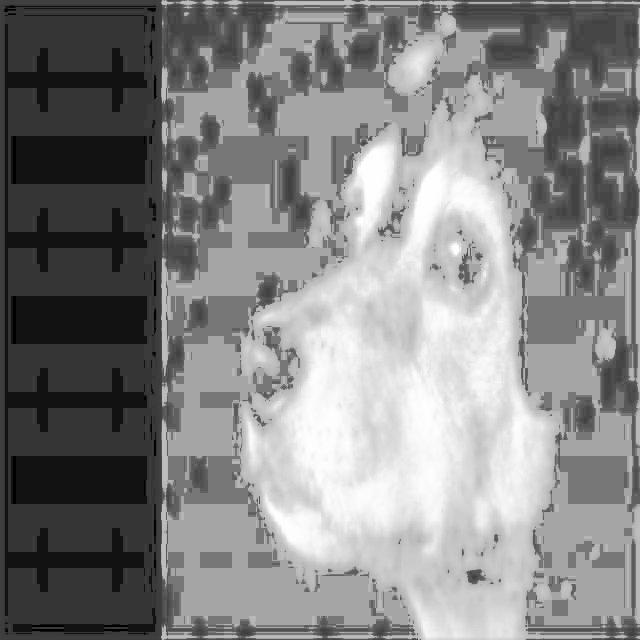Dog: (233, 0, 572, 640)
